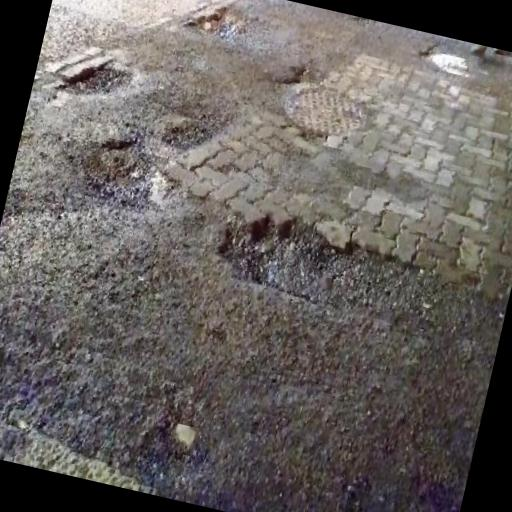pothole: (210, 196, 442, 331), (72, 126, 185, 220), (56, 51, 136, 107), (181, 0, 255, 48), (417, 38, 475, 80), (163, 112, 216, 156)
